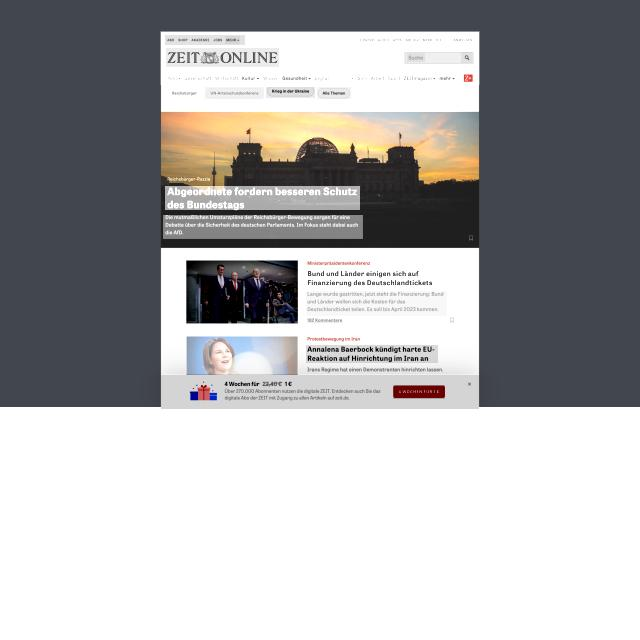CheckBox: (393, 385, 445, 399), (462, 52, 472, 63)
CheckedTextView: (404, 52, 474, 64)
Input field: (164, 216, 364, 240), (306, 291, 447, 316)
alert: (402, 74, 436, 82), (281, 74, 313, 82), (332, 74, 354, 82), (241, 74, 261, 82), (225, 36, 240, 44), (439, 75, 456, 81)
bag: (160, 31, 480, 85)
breadcrumbs: (307, 269, 434, 290), (306, 345, 438, 363)
card: (161, 111, 479, 248)
copy: (186, 260, 298, 324), (186, 336, 298, 374)
data feed: (407, 53, 425, 62)
date picker: (166, 48, 279, 67)
decoration: (165, 74, 459, 82), (355, 34, 478, 45), (165, 35, 245, 45)
header: (161, 375, 479, 409)
illustration: (205, 87, 264, 99), (266, 88, 315, 100), (317, 87, 351, 99), (166, 88, 203, 99)
image: (165, 186, 360, 210)
